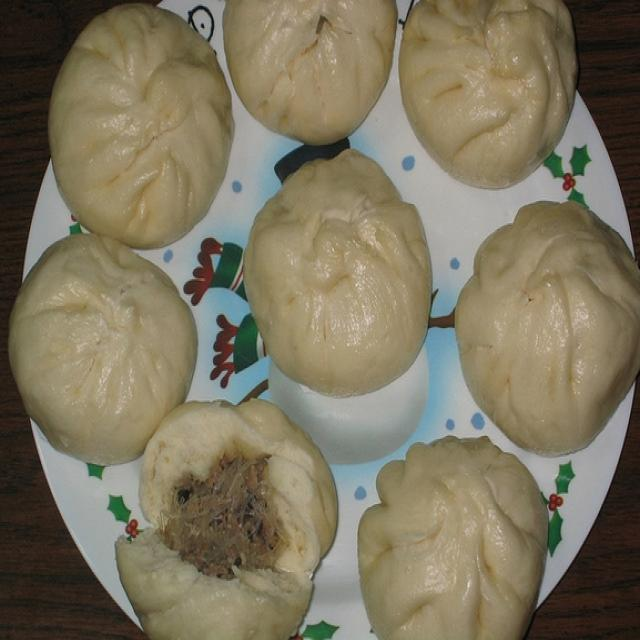带馅早点: (11, 10, 633, 631)
